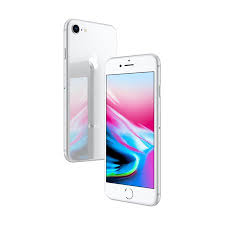iphone8: (101, 52, 162, 209)
